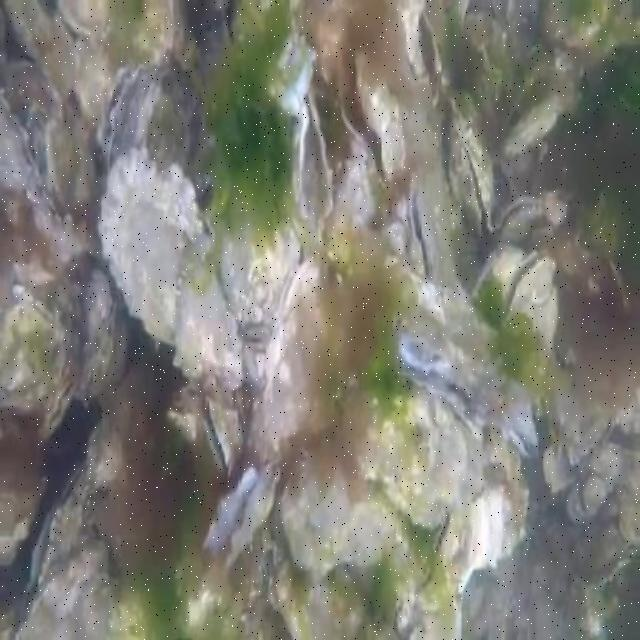Oyster-Closed: (100, 152, 217, 344), (340, 379, 479, 521), (260, 260, 332, 441), (174, 270, 244, 392), (278, 559, 368, 638), (0, 304, 62, 411), (413, 493, 466, 607), (478, 447, 531, 559), (552, 384, 612, 467), (46, 124, 96, 210), (0, 88, 39, 194), (576, 517, 627, 588), (504, 93, 562, 155), (469, 484, 506, 572), (476, 247, 527, 309), (76, 36, 113, 121), (35, 207, 89, 264), (547, 0, 609, 48), (88, 413, 124, 488), (130, 0, 174, 56), (84, 270, 115, 340), (618, 455, 638, 541), (58, 0, 110, 32), (544, 440, 575, 491), (582, 474, 609, 510), (391, 599, 413, 638)
Oyster-Open: (391, 283, 535, 453), (338, 55, 409, 178), (28, 459, 91, 593), (204, 463, 282, 567), (502, 253, 556, 367), (289, 91, 334, 223), (448, 113, 495, 234), (101, 57, 145, 163), (407, 173, 439, 279), (405, 6, 439, 91), (206, 397, 242, 470), (494, 196, 546, 245), (278, 34, 315, 101), (43, 378, 76, 441)
